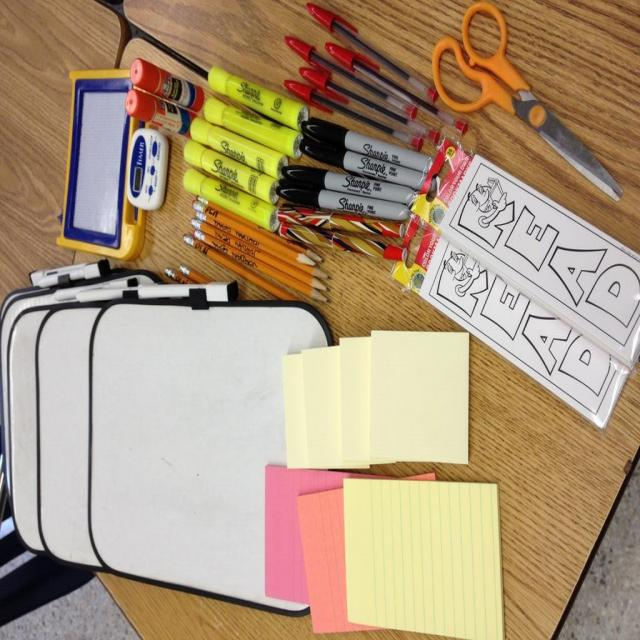scissor: (430, 2, 627, 210)
